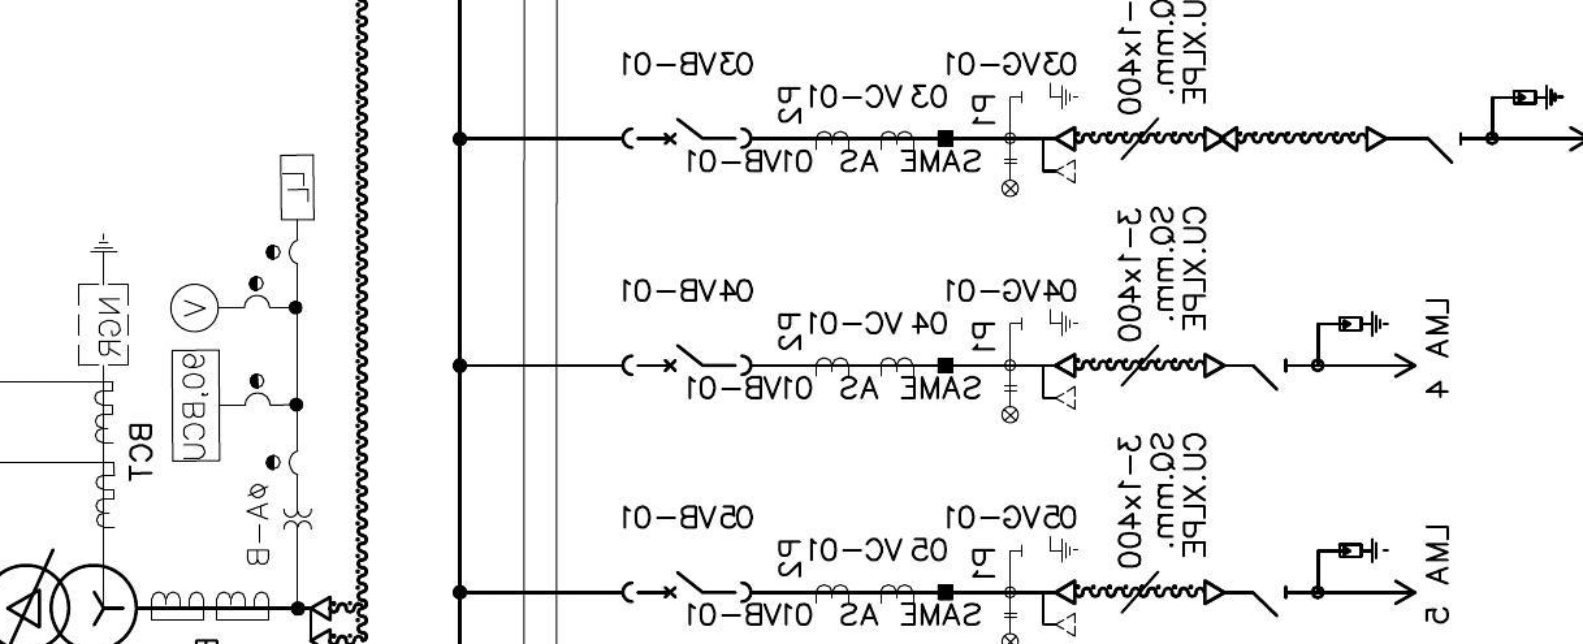22_breaker: (620, 116, 754, 151), (620, 569, 754, 605), (621, 342, 754, 378)
22_ds_la_out: (1252, 310, 1418, 392), (1252, 537, 1418, 618)
22_gs: (1019, 81, 1078, 111), (1019, 308, 1078, 338), (1019, 534, 1078, 563)
22_ll: (999, 384, 1020, 425), (1000, 157, 1020, 198)
LL: (278, 152, 317, 222)
NGR_future: (78, 233, 130, 366)
terminator_single: (1201, 350, 1226, 381), (1201, 577, 1226, 607), (1363, 124, 1387, 153)
terminator_splicing_kits: (1202, 125, 1239, 152)
terminator_w_future: (1039, 351, 1077, 413), (1040, 576, 1078, 638), (1040, 125, 1078, 186)
v_m: (169, 282, 220, 334)
